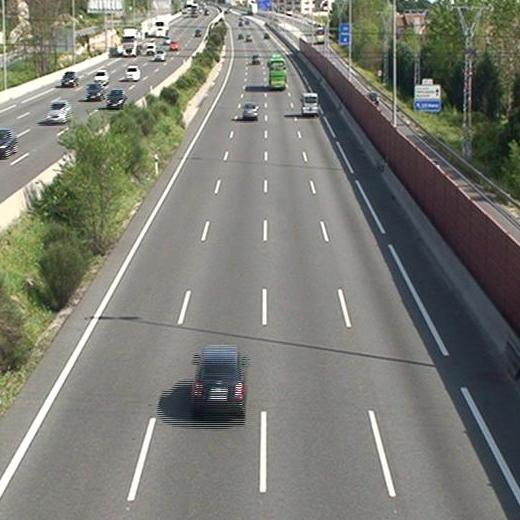bus: (268, 56, 286, 90)
car: (192, 346, 246, 409), (242, 102, 258, 119), (250, 54, 259, 63)
van: (301, 92, 319, 114)
